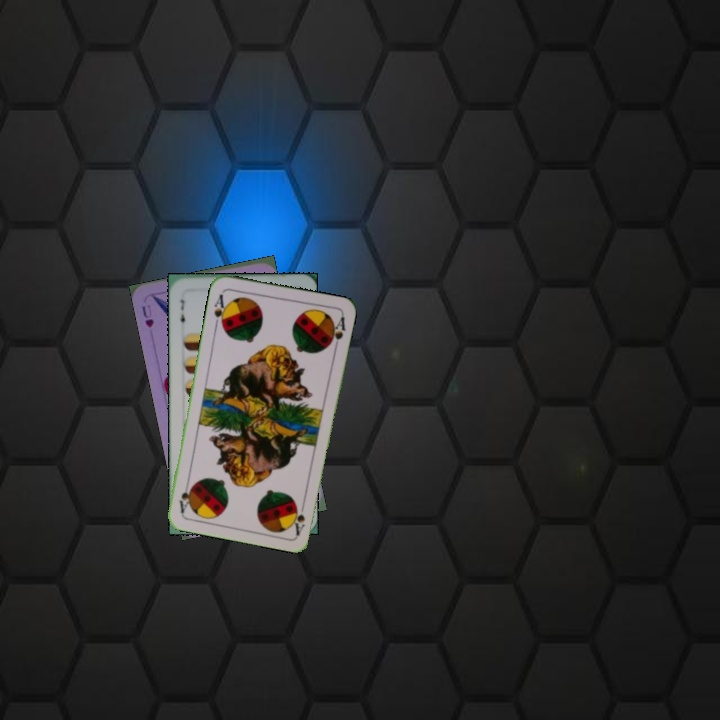E7: (176, 295, 187, 329)
HU: (138, 300, 156, 330)
SA: (210, 290, 230, 330), (291, 496, 308, 537)
